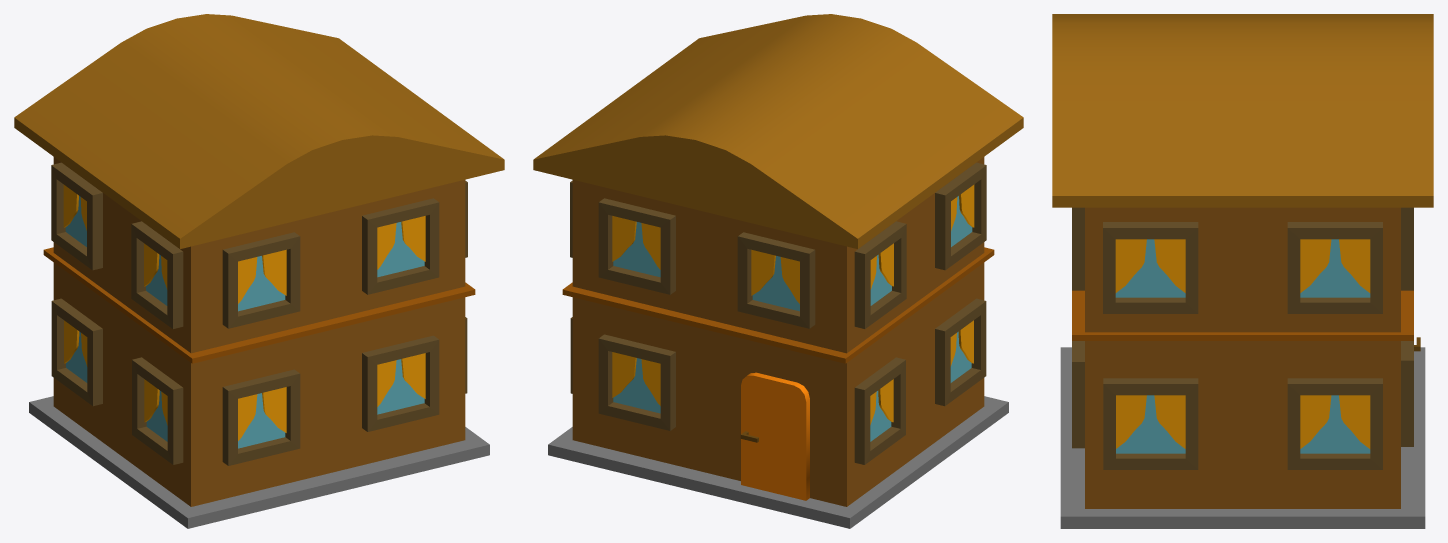
File: House11.fbx
3 views of the same model, side by side, from view 1: azimuth 30°, elevation 25°; view 2: azimuth 150°, elevation 25°; view 3: azimuth 270°, elevation 25° (orthographic). The views are drawn at different scales.
Visible parts, largest first — view 1: House.011; view 2: House.011; view 3: House.011.
Part boxes in pixels (x1,y1,x2,y2): House.011: [14, 14, 504, 528]; House.011: [533, 14, 1023, 528]; House.011: [1052, 14, 1433, 528].
Size of the model in its own units: 813 by 849 by 720.
